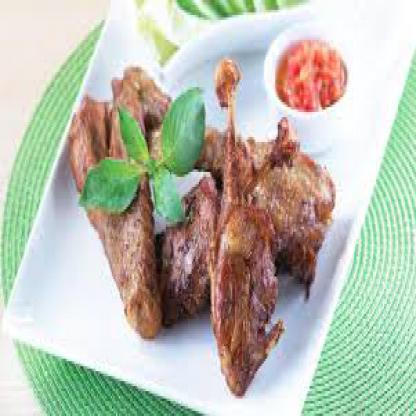ayam_goreng: (69, 72, 214, 339), (213, 55, 282, 399), (227, 134, 339, 299)
